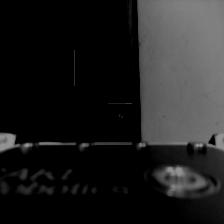Door Handle: (74, 50, 131, 86)
Lock: (108, 103, 132, 140)
